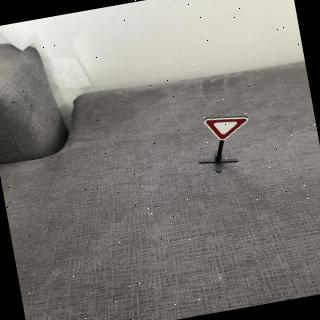sign_yield: (204, 110, 254, 145)
